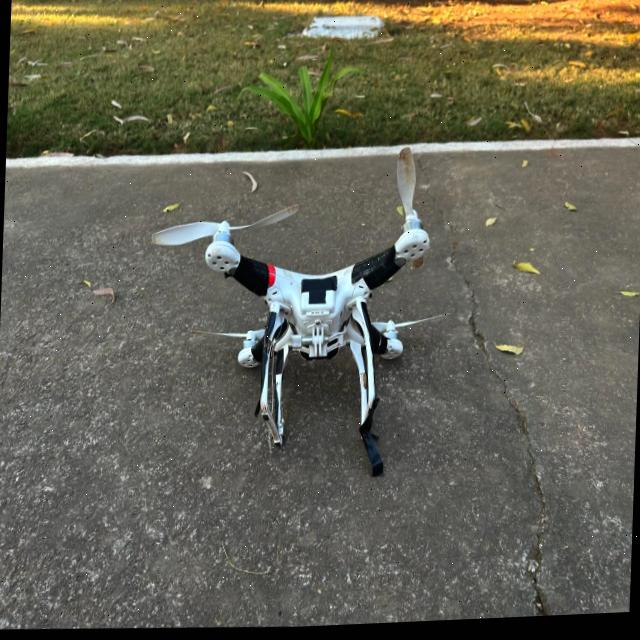drone: (95, 138, 533, 513)
